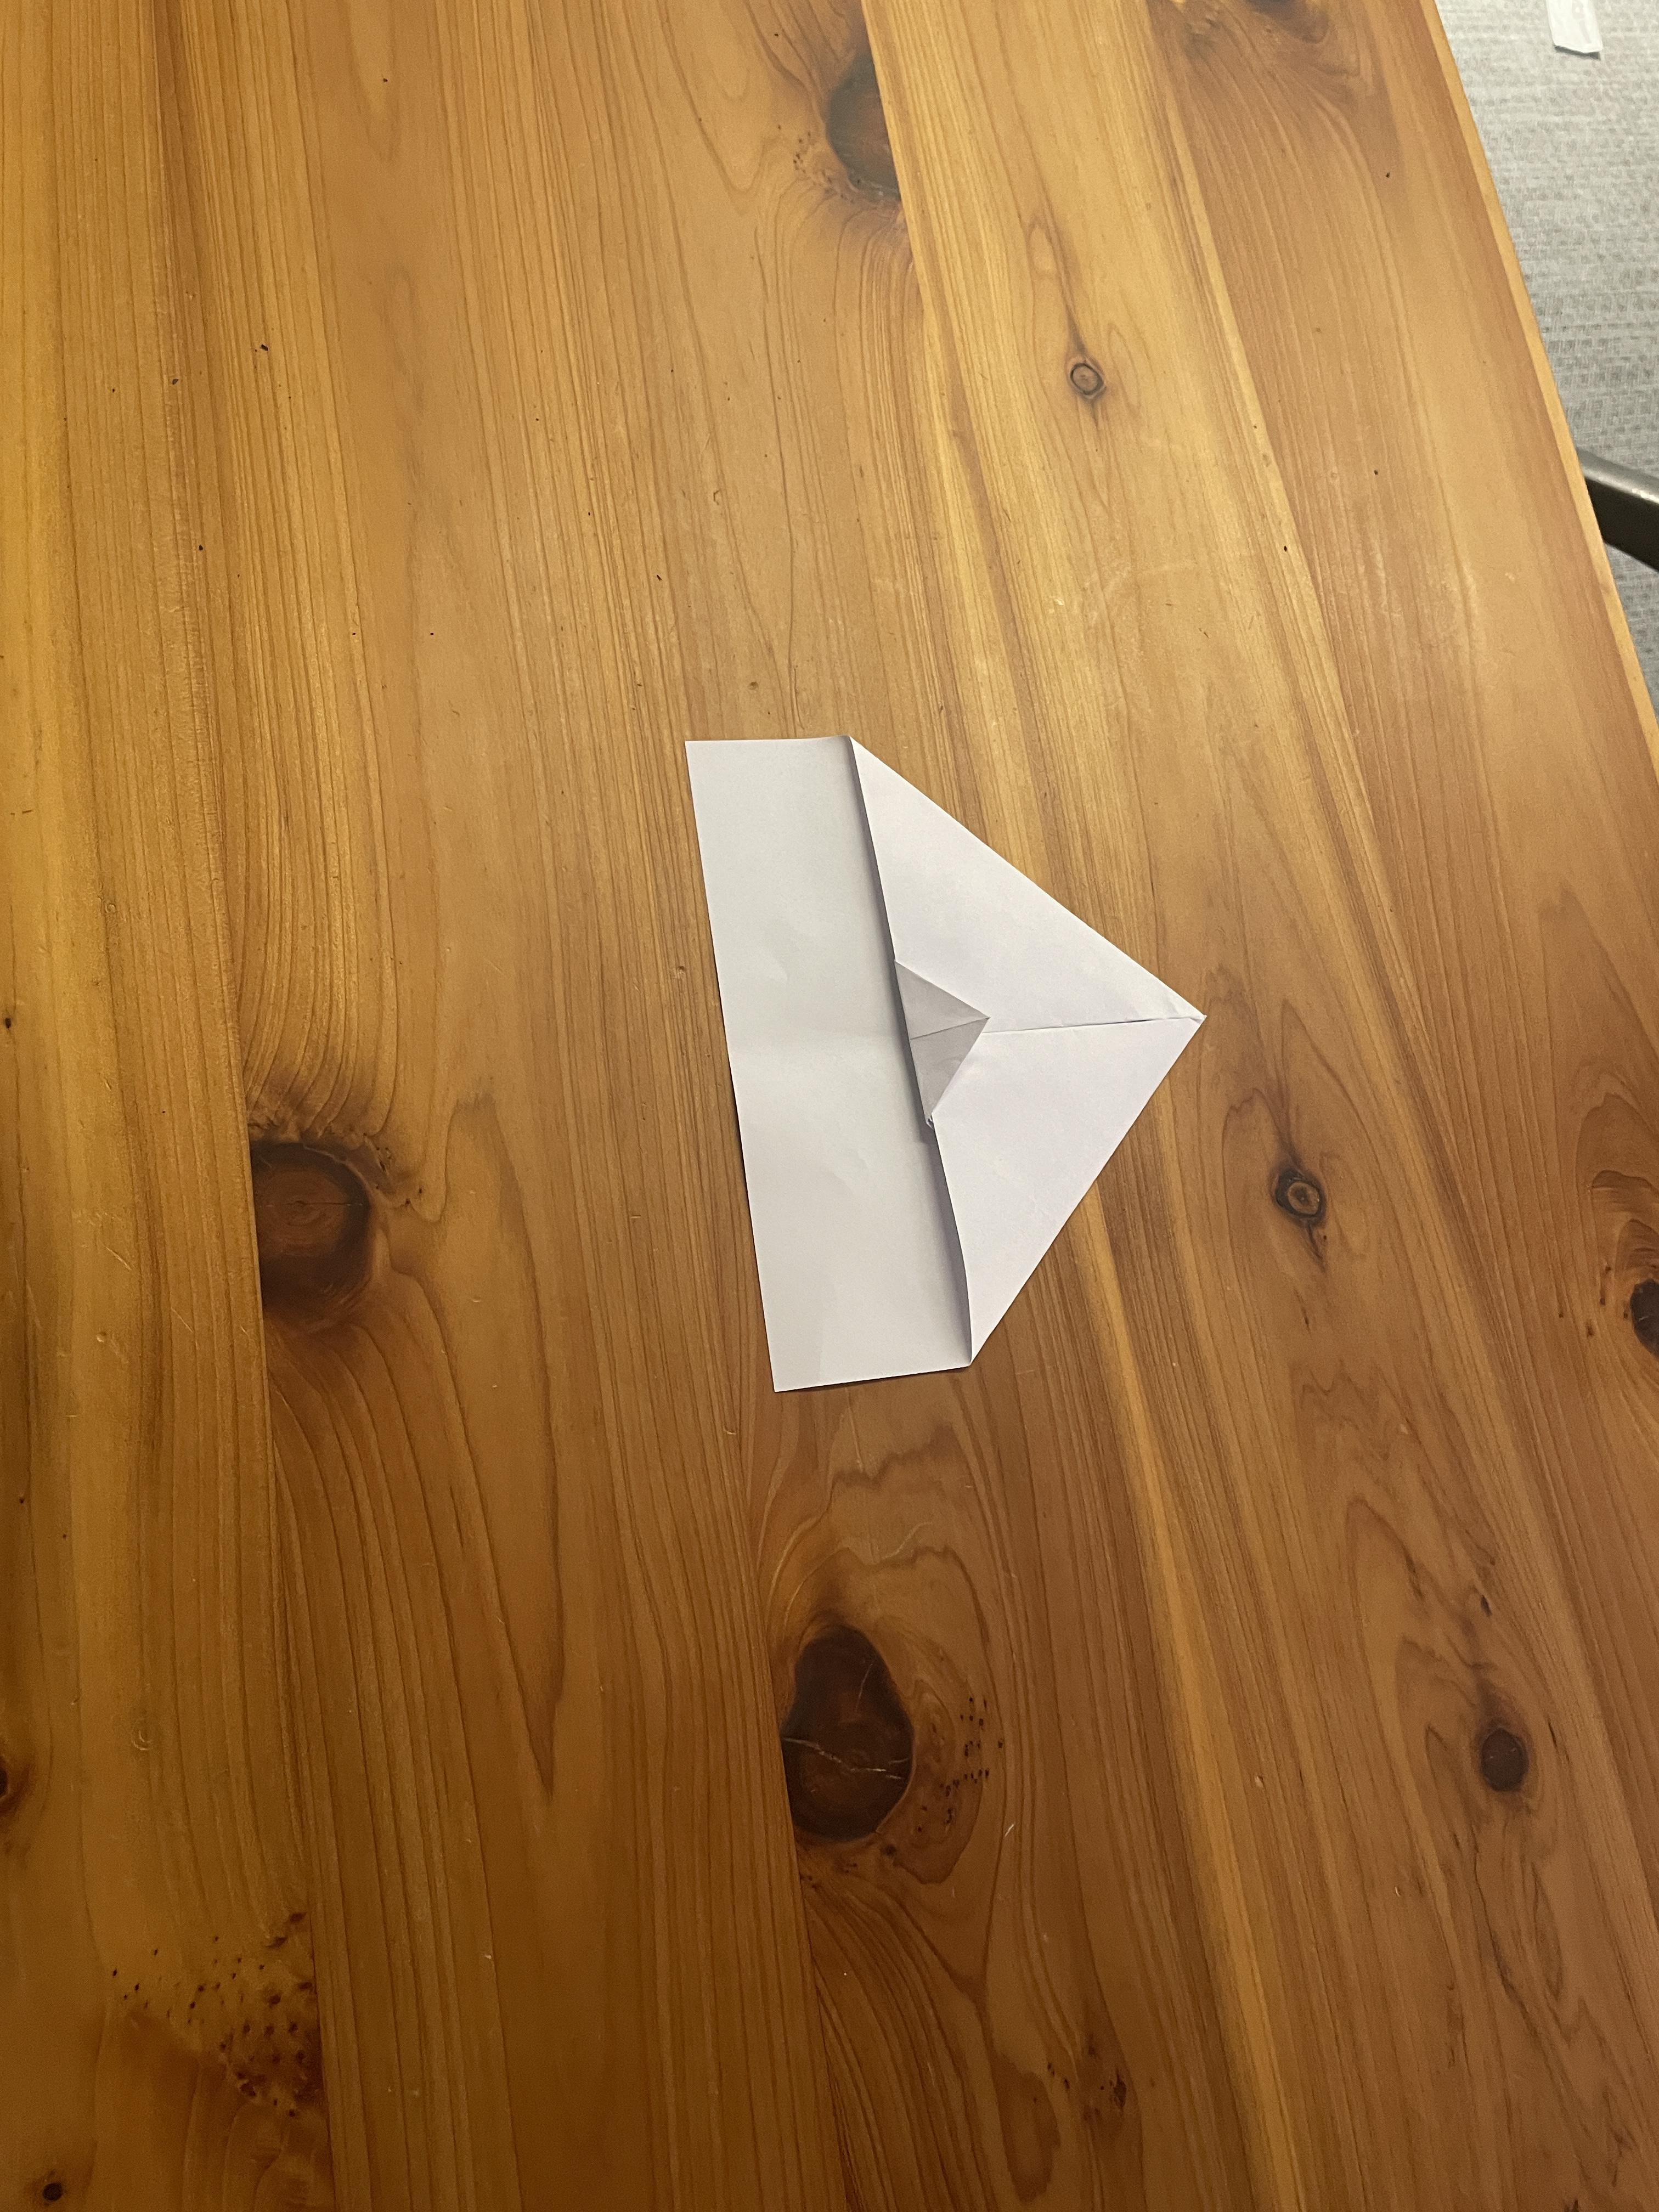shape_2: (416, 423, 1364, 1648)
